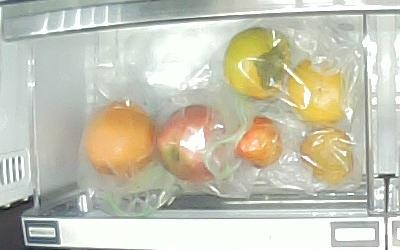apple_vinyl: (156, 105, 229, 184)
grapefruit_vinyl: (85, 101, 159, 176)
persimmon_vinyl: (224, 26, 290, 101), (286, 58, 347, 126)
prune_vinyl: (300, 128, 354, 183), (233, 115, 283, 170)
